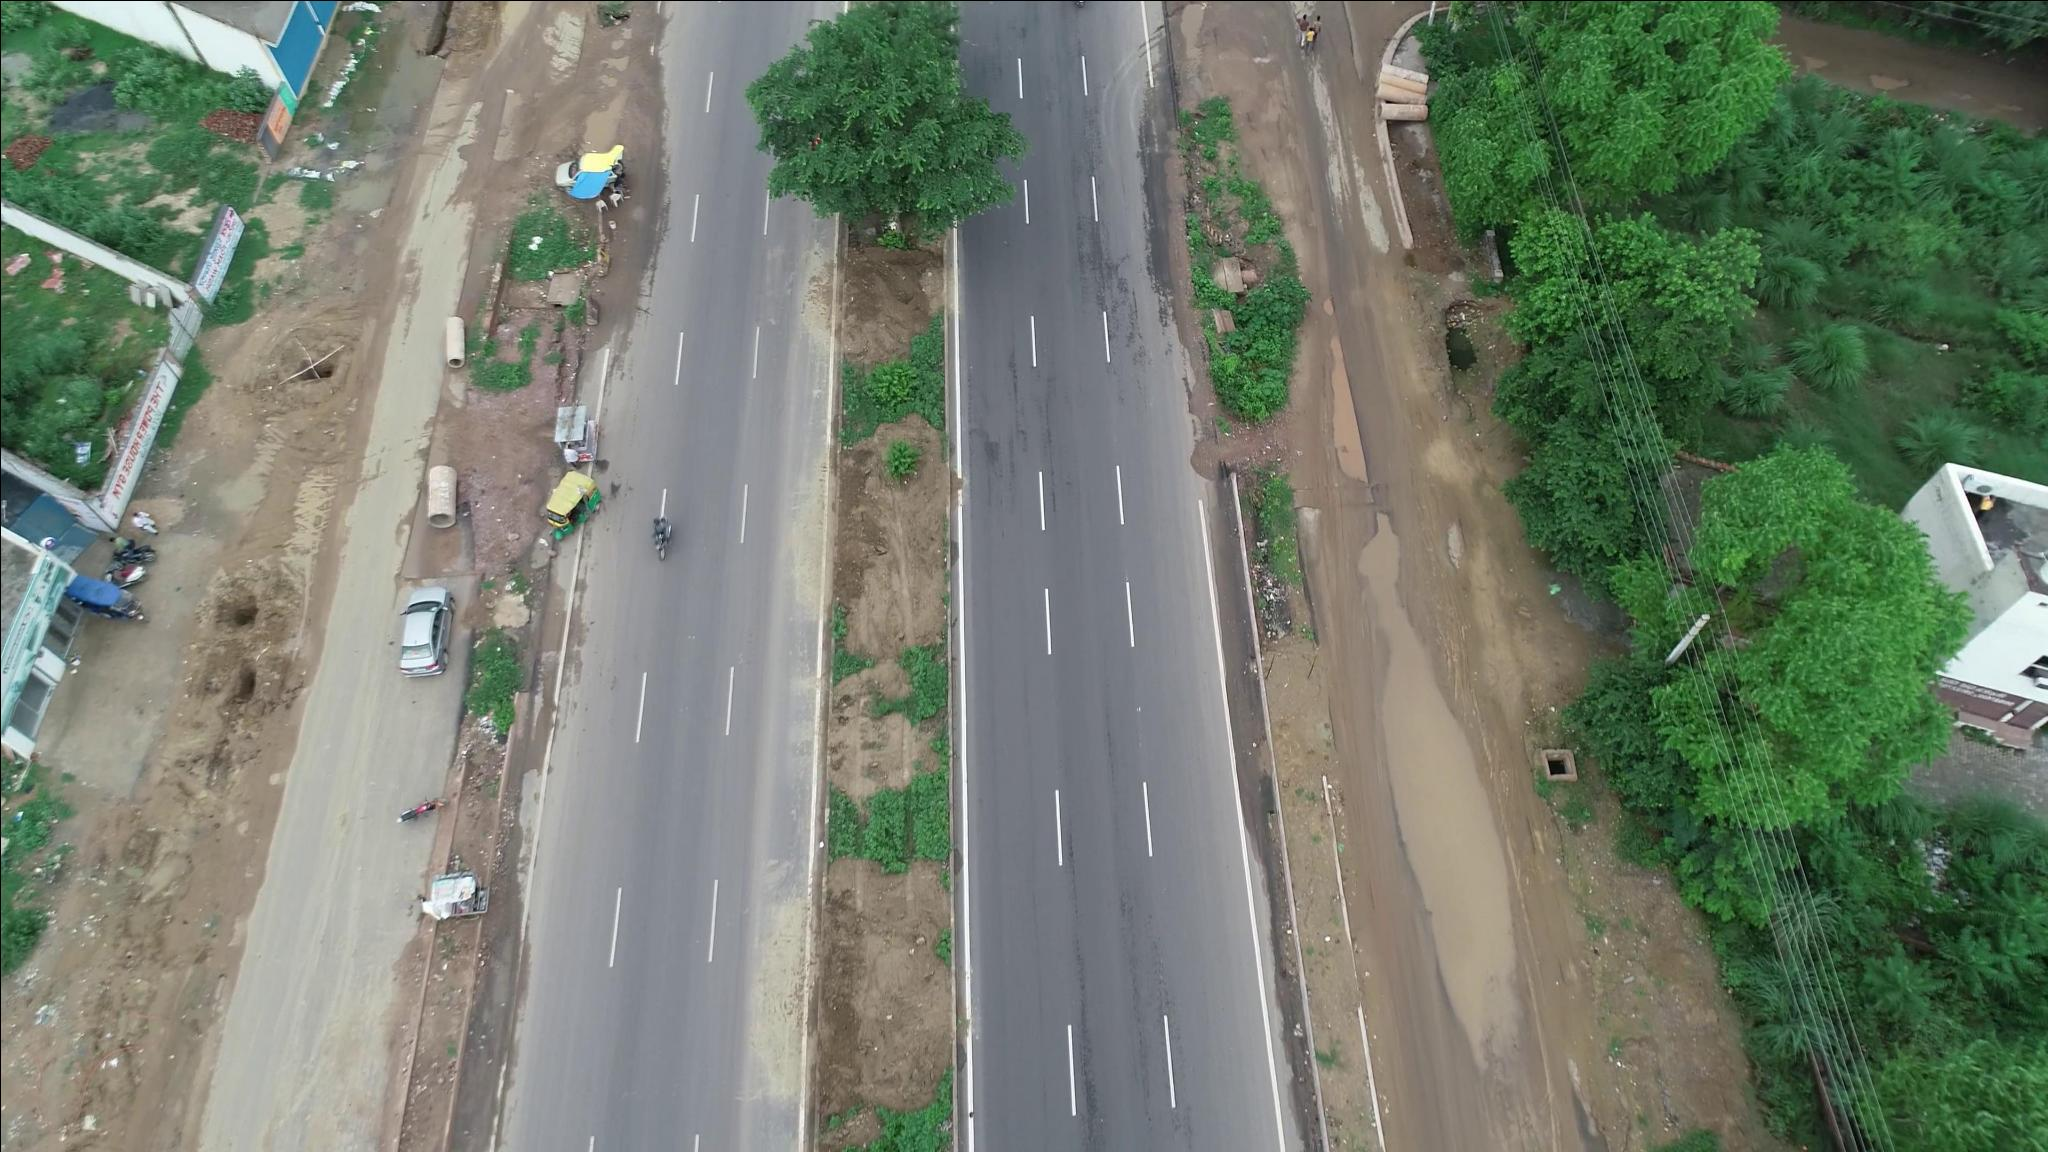Potholes: (1310, 281, 1342, 326)
Ravelling: (1084, 217, 1148, 359)
Waterlogging: (1363, 587, 1542, 1032), (1318, 331, 1374, 481)
